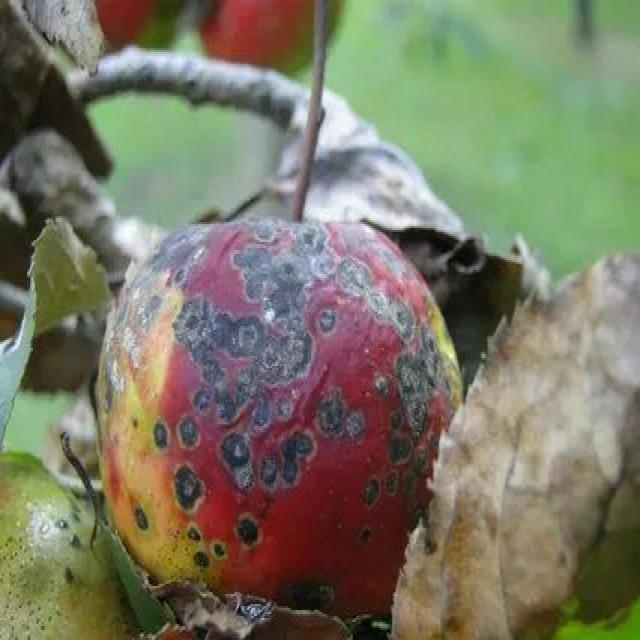Rotten: (78, 210, 445, 615)
